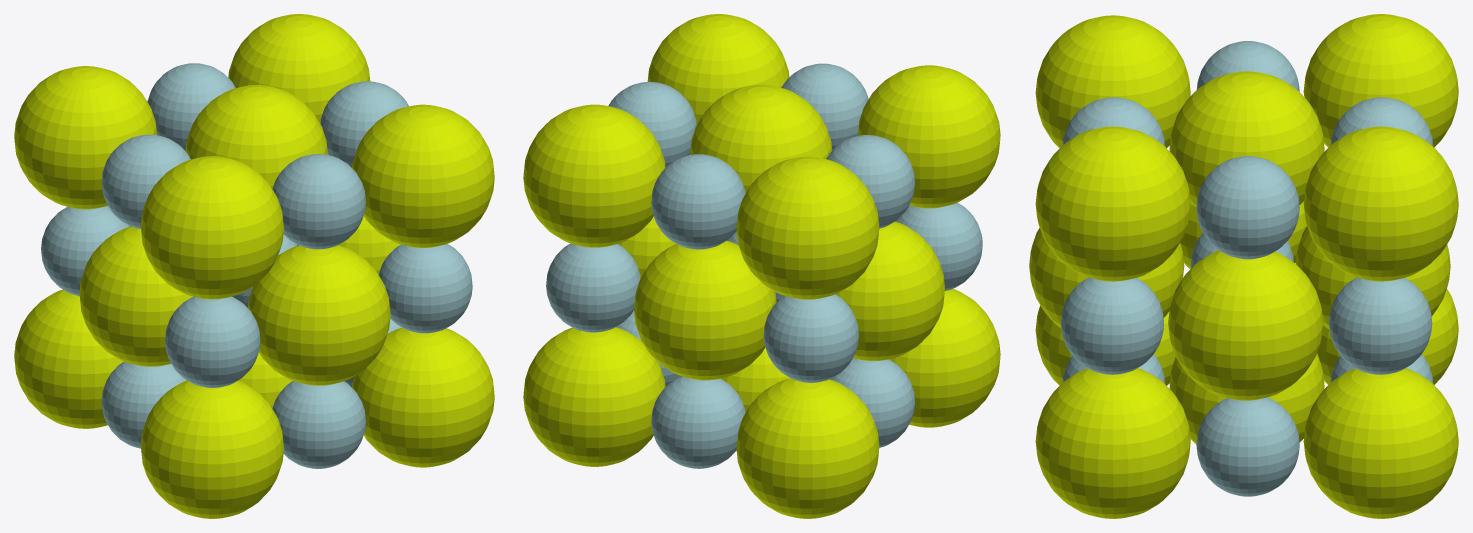
File: nacl 1.fbx
3 renders of one model, left to right at view 1: azimuth 30°, elevation 25°; view 2: azimuth 150°, elevation 25°; view 3: azimuth 270°, elevation 25°, orthographic. The views are drawn at different scales.
Visible parts, largest first — view 1: Sphere.009; view 2: Sphere.009; view 3: Sphere.009.
Boxes of the visible parts, box(x1,y1,x2,y2) form: Sphere.009: box(14, 14, 494, 518); Sphere.009: box(523, 14, 1000, 518); Sphere.009: box(1029, 14, 1458, 518).
Bounding box in the file's own units: 655 × 645 × 665.
